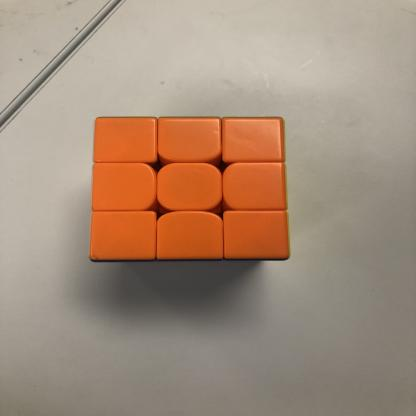SolvedCube: (80, 102, 312, 278)
